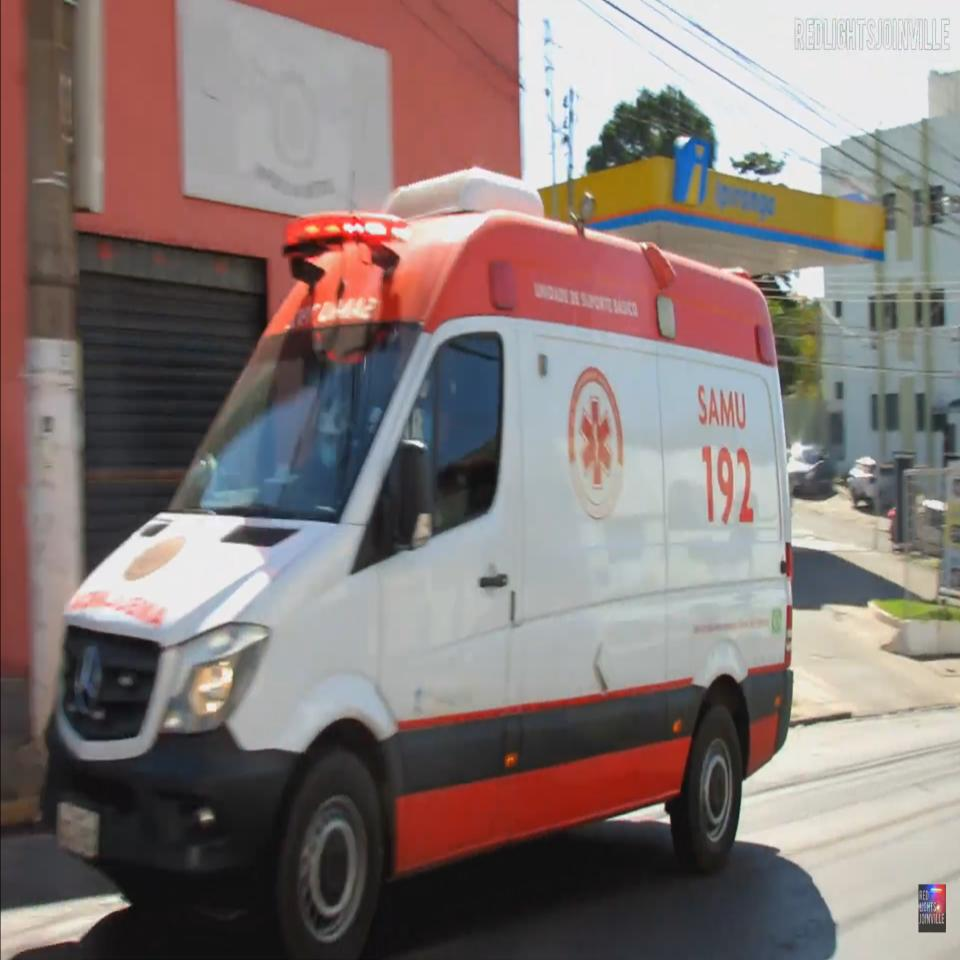bombeiro: (37, 168, 797, 960)
